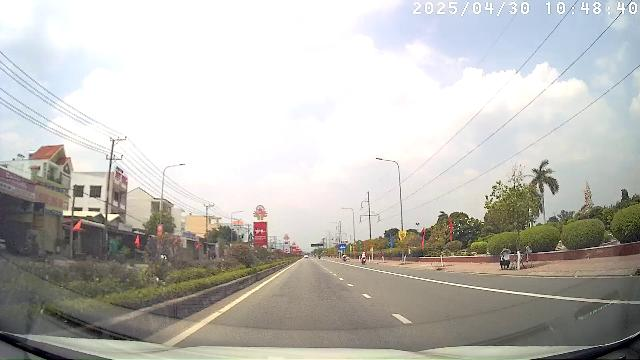420-bat-dau-khu-dong-dan-cu: (338, 244, 346, 250)
